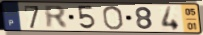4: (160, 5, 181, 32)
5: (78, 5, 98, 31)
7: (23, 4, 41, 29)
8: (135, 6, 155, 31)
O: (101, 5, 125, 31)
R: (43, 4, 71, 30)
